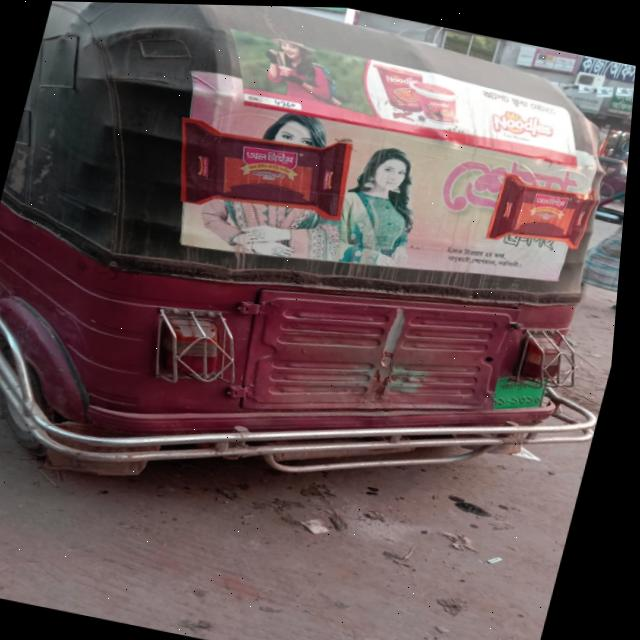cng: (0, 0, 640, 564)
